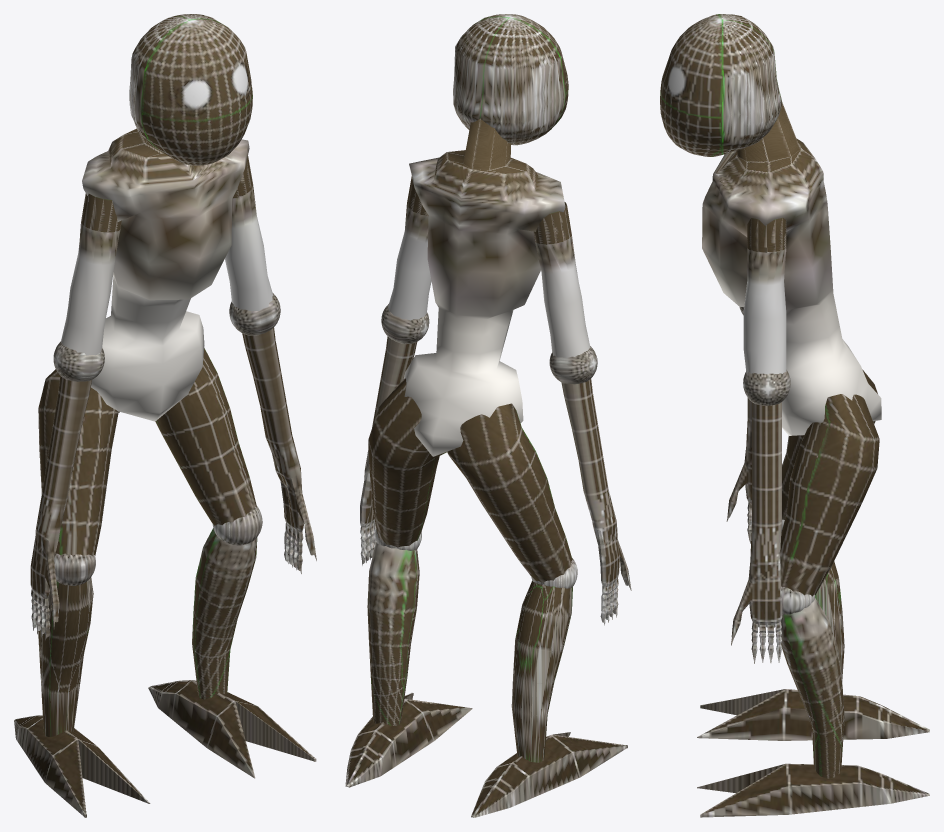
The model's file is Monstaaaahhhh.FBX.
The picture shows the model from 3 angles, left to right: view 1: azimuth 30°, elevation 25°; view 2: azimuth 150°, elevation 25°; view 3: azimuth 270°, elevation 25°; orthographic projection. The views are drawn at different scales.
Visible parts, largest first — view 1: Cylinder001; view 2: Cylinder001; view 3: Cylinder001.
Boxes of the visible parts, box(x1,y1,x2,y2) form: Cylinder001: box(14, 14, 316, 817); Cylinder001: box(345, 14, 631, 817); Cylinder001: box(660, 14, 929, 817).
Bounding box in the file's own units: 42 × 37.88 × 115.
